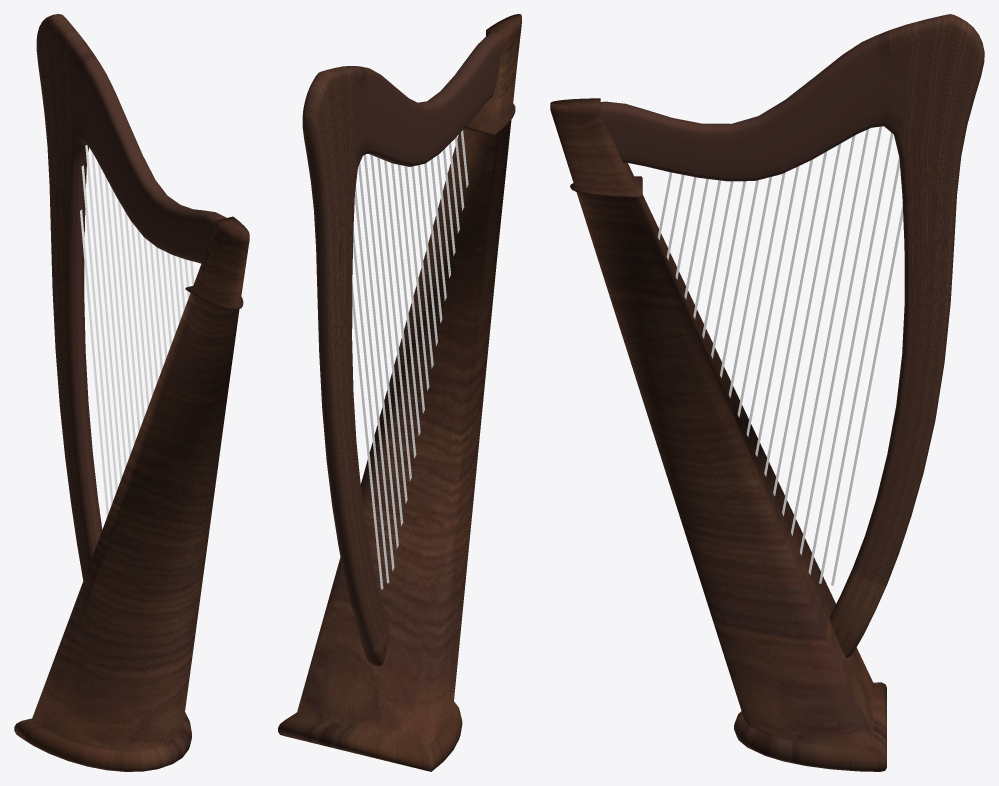
The model's file is Inst_Harp.fbx.
3 renders of one model, left to right at view 1: azimuth 30°, elevation 25°; view 2: azimuth 150°, elevation 25°; view 3: azimuth 270°, elevation 25°, orthographic. The views are drawn at different scales.
Parts seen in each view (by area): view 1: Plane; view 2: Plane; view 3: Plane.
Part boxes in pixels (x1,y1,x2,y2): Plane: (14, 14, 249, 771); Plane: (278, 14, 521, 771); Plane: (550, 14, 984, 771).
Size of the model in its own units: 37.3 by 164 by 89.72.
